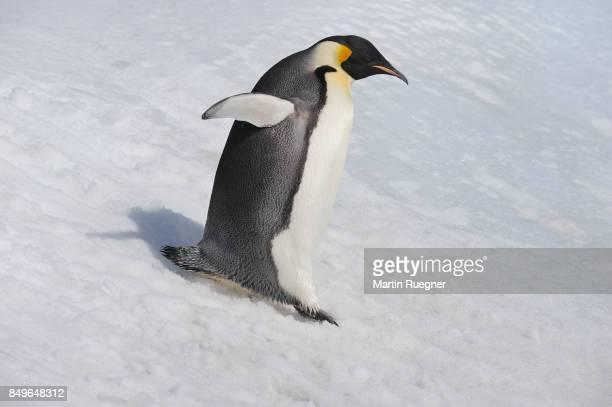emporer: (163, 22, 427, 314)
